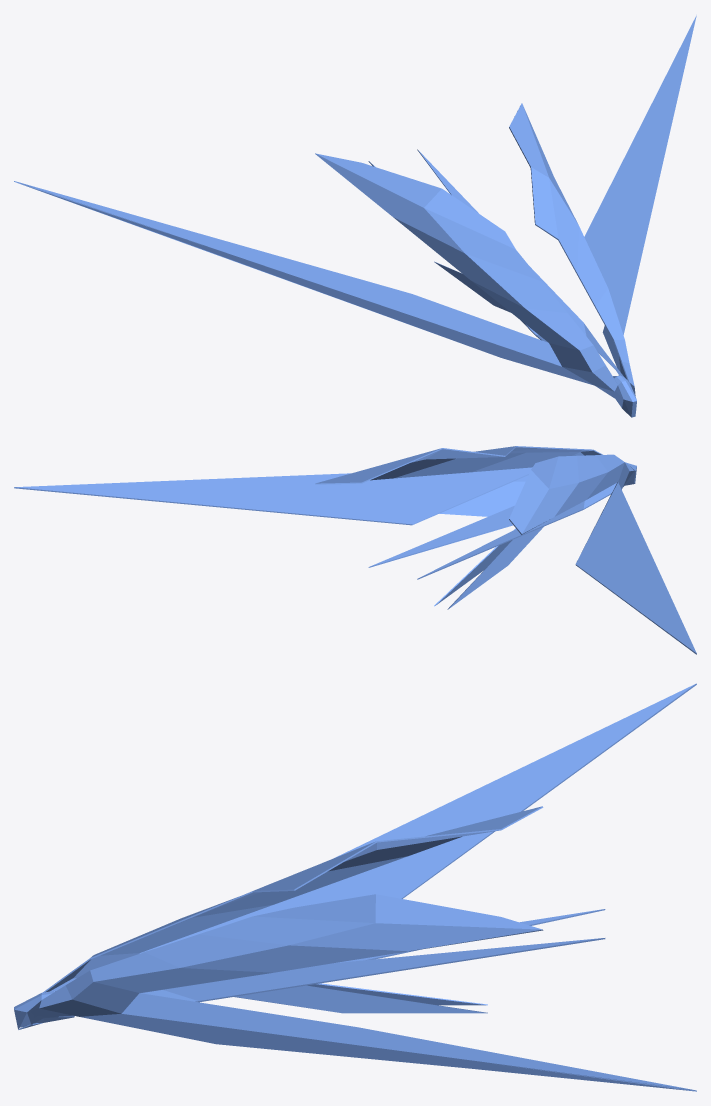
The model's file is CONCEPT 4.fbx.
3 views of the same model, one above another, from view 1: azimuth 30°, elevation 25°; view 2: azimuth 150°, elevation 25°; view 3: azimuth 270°, elevation 25° (orthographic). The views are drawn at different scales.
Parts seen in each view (by area): view 1: Plano; view 2: Plano; view 3: Plano.
Boxes of the visible parts, box(x1,y1,x2,y2) form: Plano: box(14, 15, 696, 417); Plano: box(14, 446, 696, 654); Plano: box(14, 683, 696, 1091).
Bounding box in the file's own units: 13505 × 2496 × 9576.
